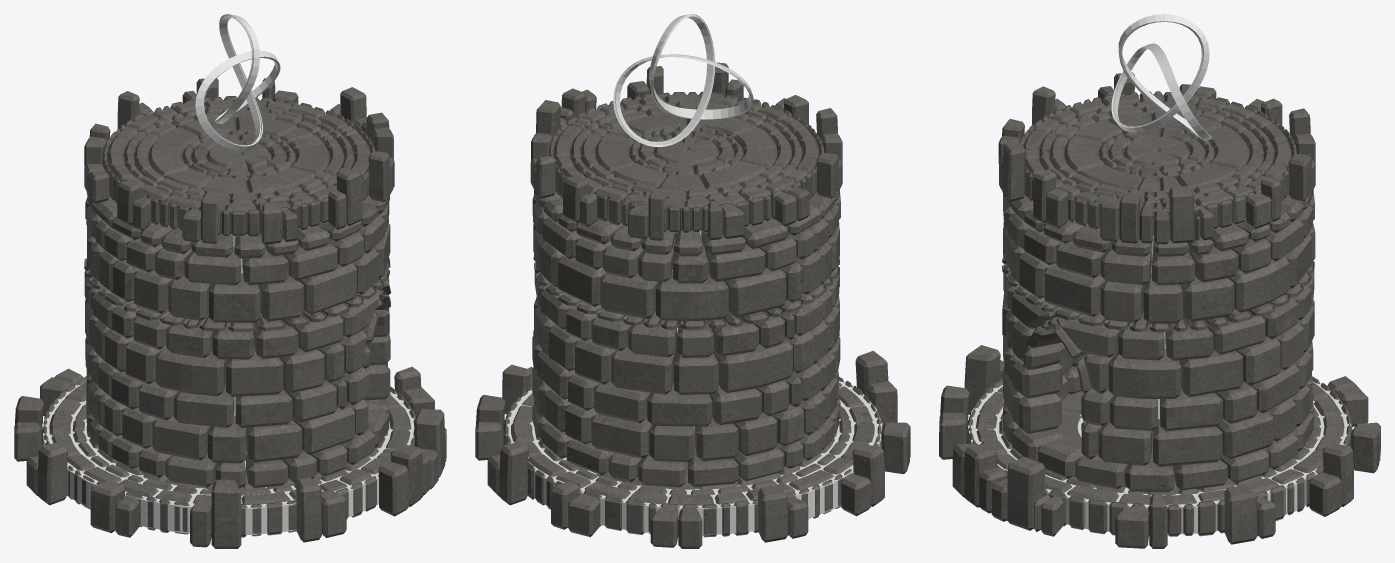
The model's file is tower 4.fbx.
3 views of the same model, side by side, from view 1: azimuth 30°, elevation 25°; view 2: azimuth 150°, elevation 25°; view 3: azimuth 270°, elevation 25° (orthographic). The views are drawn at different scales.
Parts seen in each view (by area): view 1: Wall.008, Wall.009, Wall.005, Circle.004, TorusKnot; view 2: Wall.008, Wall.009, Wall.005, Circle.004, TorusKnot; view 3: Wall.008, Wall.009, Wall.005, TorusKnot, Circle.004.
Boxes of the visible parts, box(x1,y1,x2,y2) form: Wall.008: box(84, 192, 390, 489); Wall.009: box(84, 78, 394, 244); Wall.005: box(14, 366, 446, 548); Circle.004: box(42, 383, 414, 534); TorusKnot: box(195, 14, 280, 151); Wall.008: box(532, 189, 840, 488); Wall.009: box(530, 62, 842, 240); Wall.005: box(475, 321, 910, 548); Circle.004: box(505, 380, 882, 535); TorusKnot: box(613, 14, 753, 146); Wall.008: box(1002, 190, 1315, 493); Wall.009: box(998, 72, 1315, 244); Wall.005: box(939, 345, 1380, 548); TorusKnot: box(1111, 14, 1212, 141); Circle.004: box(968, 381, 1351, 534).
Size of the model in its own units: 2074 by 2341 by 2073.
